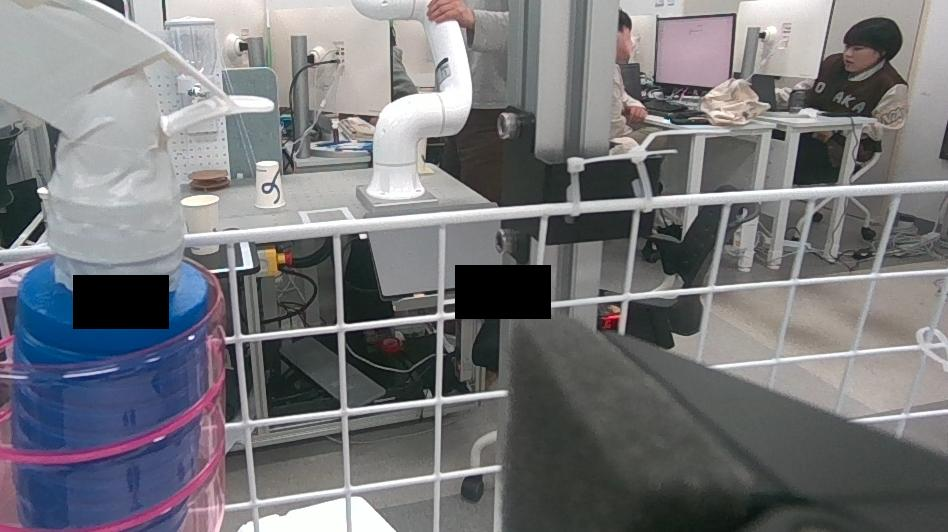Nozzle: (0, 0, 280, 532)
